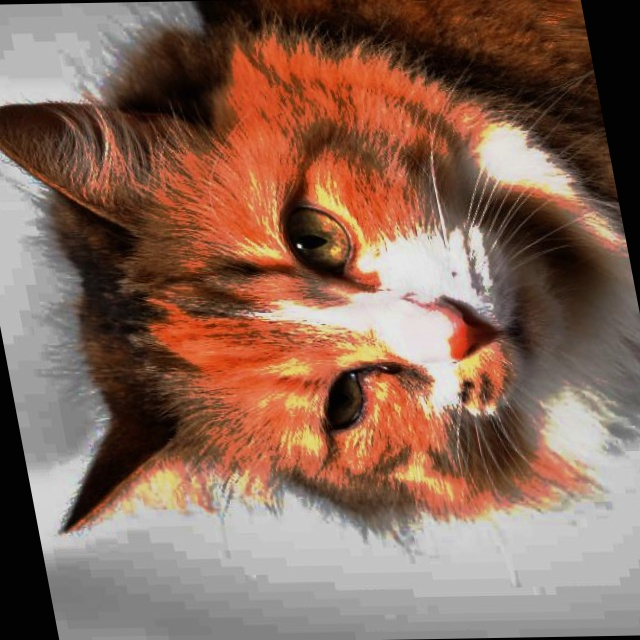eye_infection: (309, 360, 409, 424)
